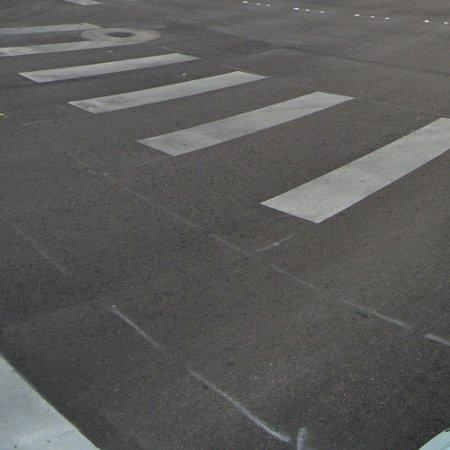crosswalks: (0, 19, 450, 226)
